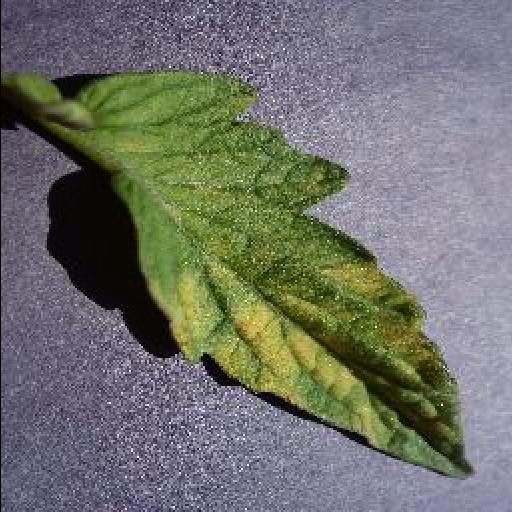disease_tomato: (74, 68, 472, 480)
